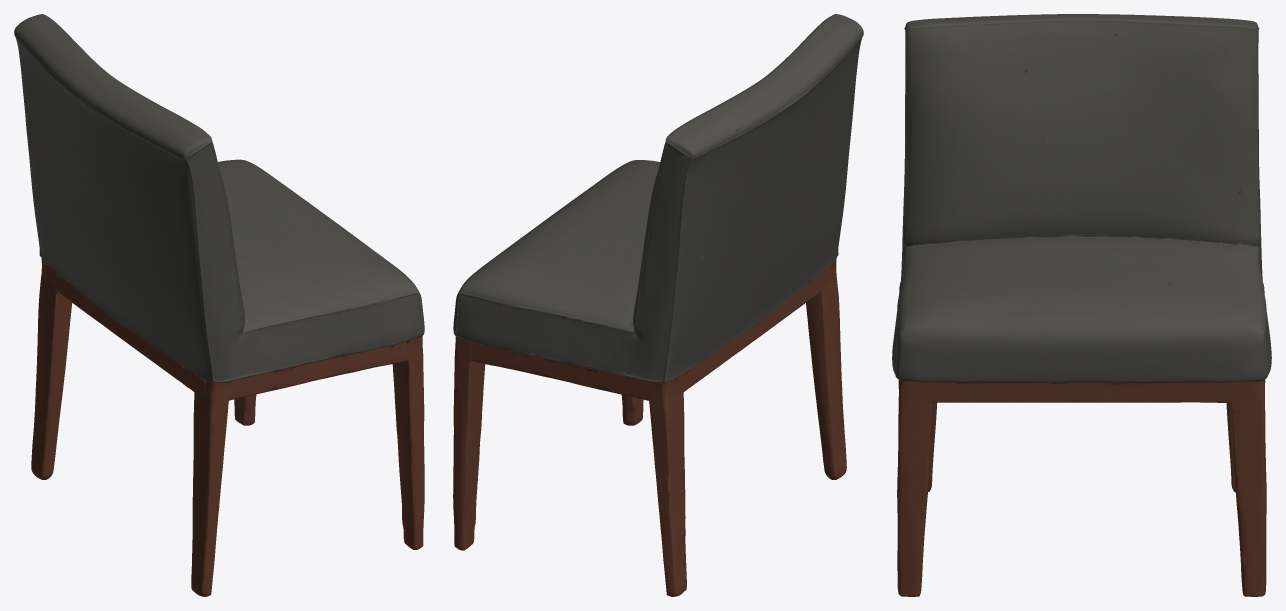
The picture shows the model from 3 angles, left to right: view 1: azimuth 30°, elevation 25°; view 2: azimuth 150°, elevation 25°; view 3: azimuth 270°, elevation 25°; orthographic projection.
Visible parts, largest first — view 1: tripo_node_b7e21e5b-d0b3-4c1e-a8d8-cf8ea1b8c06e; view 2: tripo_node_b7e21e5b-d0b3-4c1e-a8d8-cf8ea1b8c06e; view 3: tripo_node_b7e21e5b-d0b3-4c1e-a8d8-cf8ea1b8c06e.
Boxes of the visible parts, box(x1,y1,x2,y2) form: tripo_node_b7e21e5b-d0b3-4c1e-a8d8-cf8ea1b8c06e: box(14, 14, 424, 596); tripo_node_b7e21e5b-d0b3-4c1e-a8d8-cf8ea1b8c06e: box(453, 14, 863, 596); tripo_node_b7e21e5b-d0b3-4c1e-a8d8-cf8ea1b8c06e: box(892, 14, 1271, 596).
Size of the model in its own units: 0.48 by 0.82 by 0.6.
Materials: 2 (1 with a texture image).
